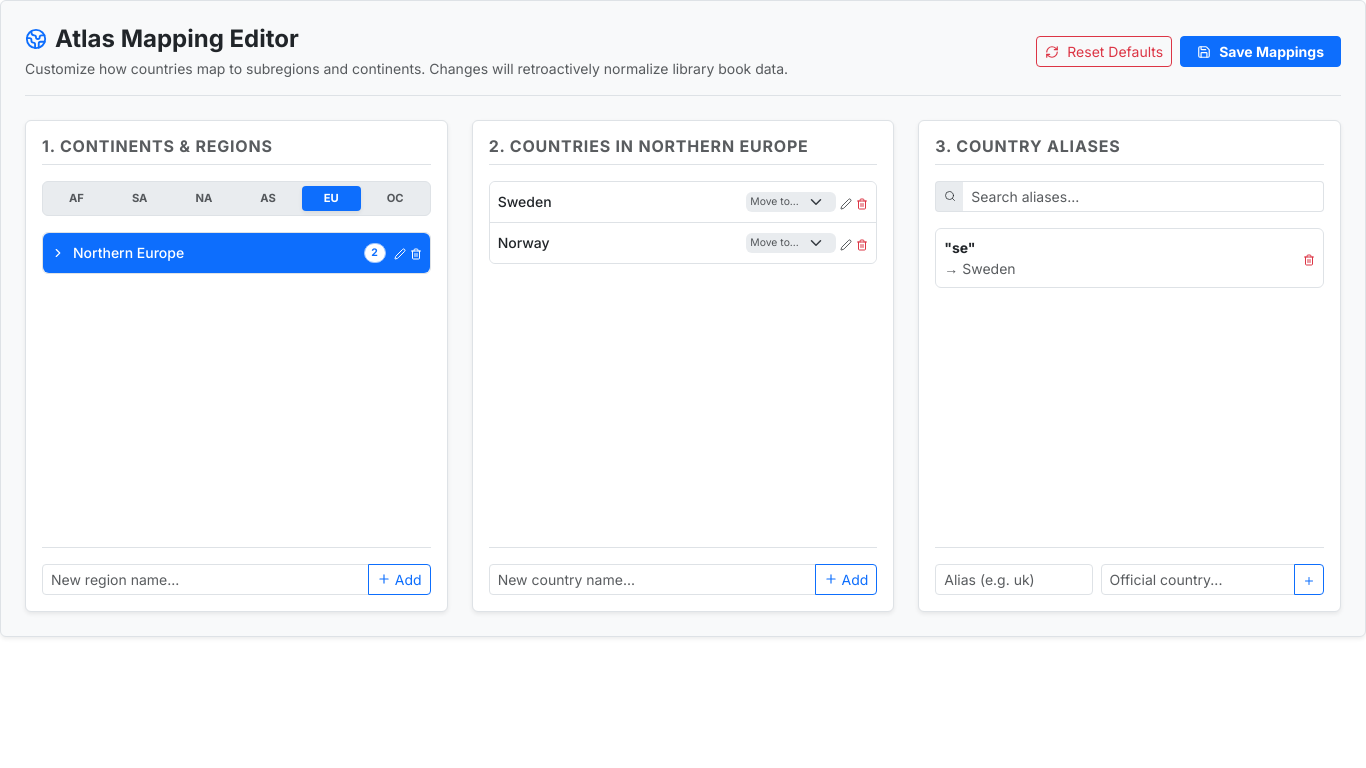
Test: MappingsEditor Component › allows renaming and deleting a country
Edit country 'Sweden'
Click the button with test id "edit-country-Sweden" at (846, 202), box top-left (840, 190), bottom-right (852, 214)
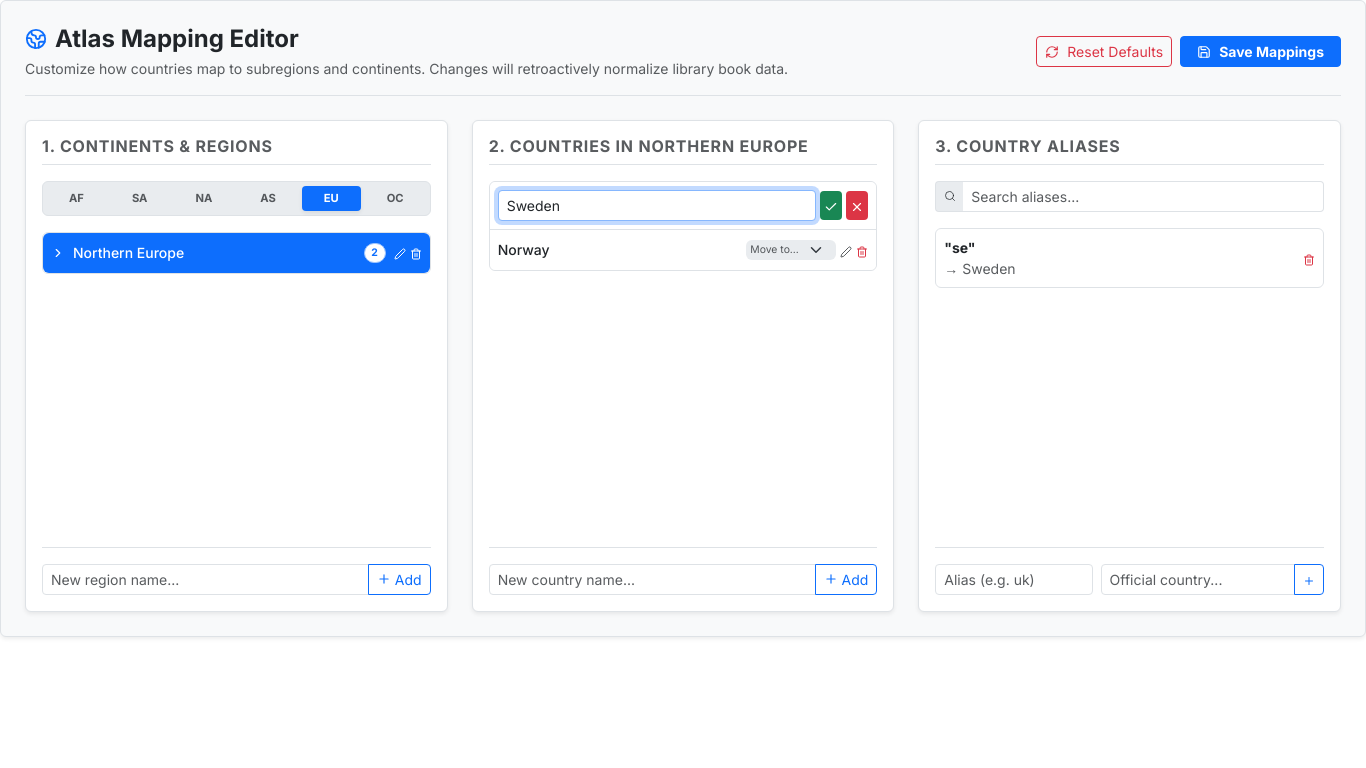
Test cancel edit
Click the button with test id "cancel-edit-country" at (857, 206), box top-left (846, 191), bottom-right (868, 220)
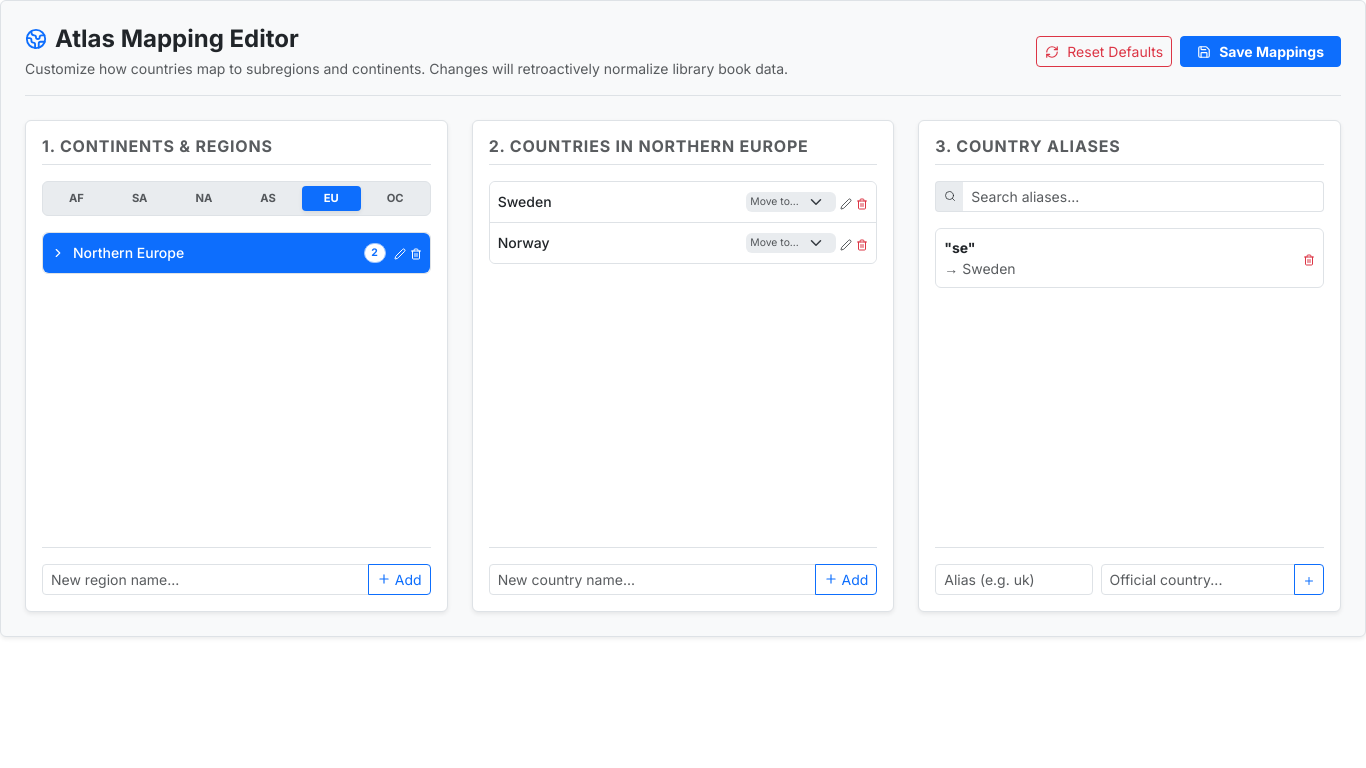
Now the text "Sweden" is shown, box top-left (498, 192), bottom-right (552, 212)
Edit again and confirm
Click the button with test id "edit-country-Sweden" at (846, 202), box top-left (840, 190), bottom-right (852, 214)
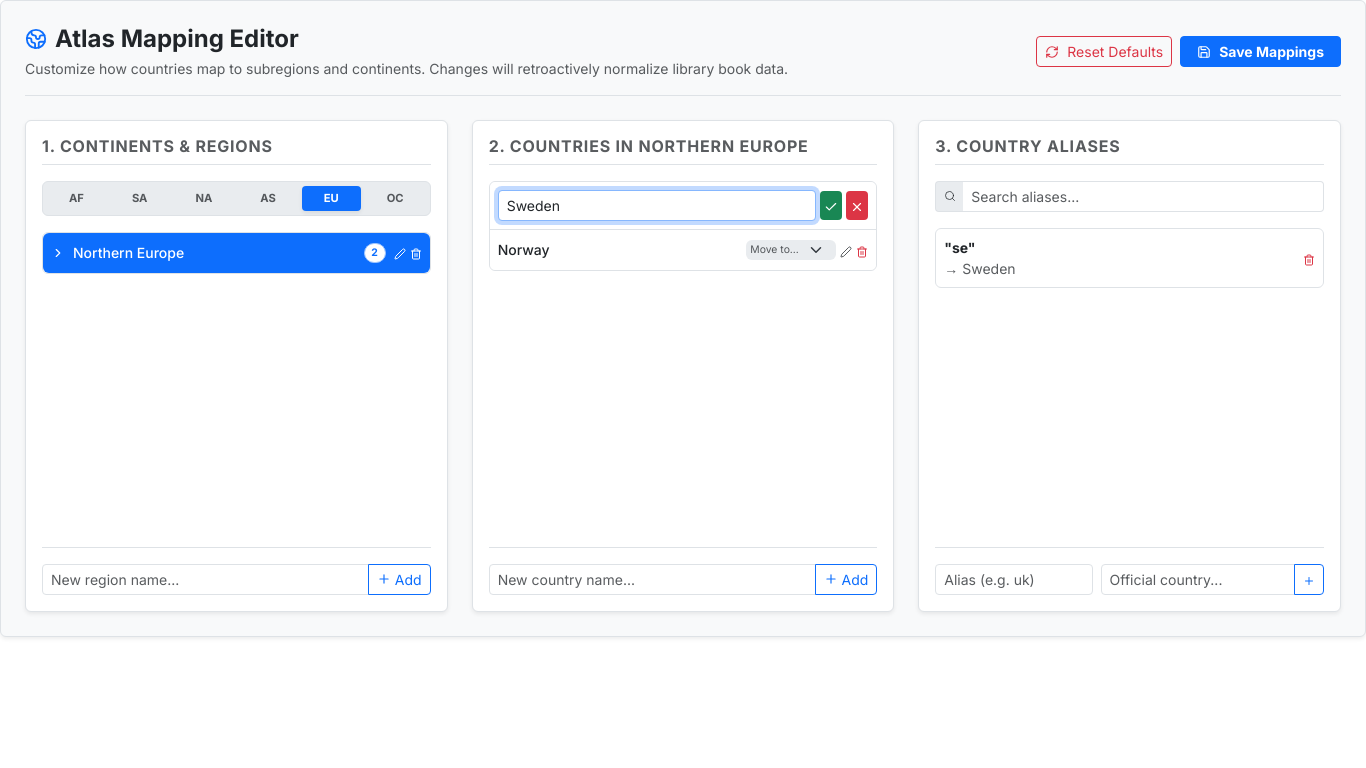
Replace the text in the field showing "Sweden" with "Sverige" at (657, 206), box top-left (498, 190), bottom-right (816, 221)
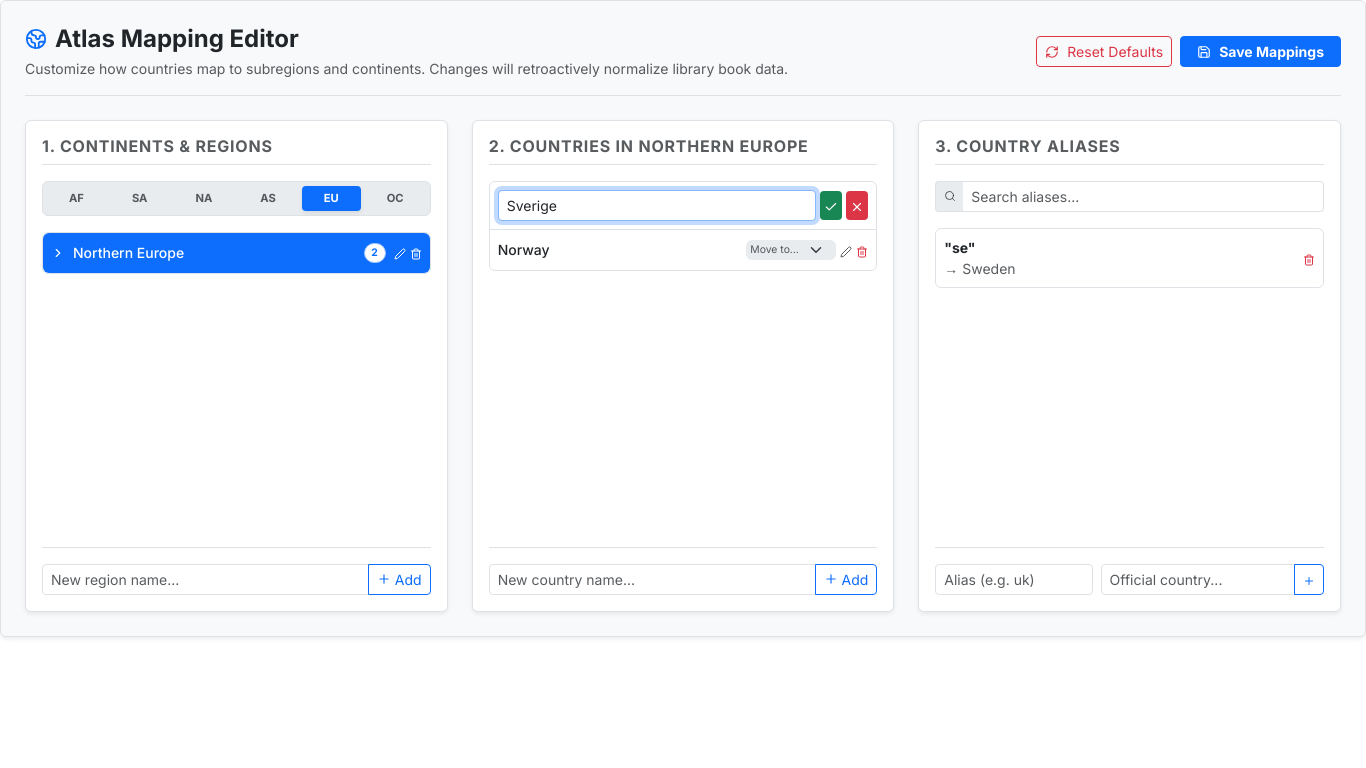
Click the button with test id "confirm-edit-country" at (831, 206), box top-left (820, 191), bottom-right (842, 220)
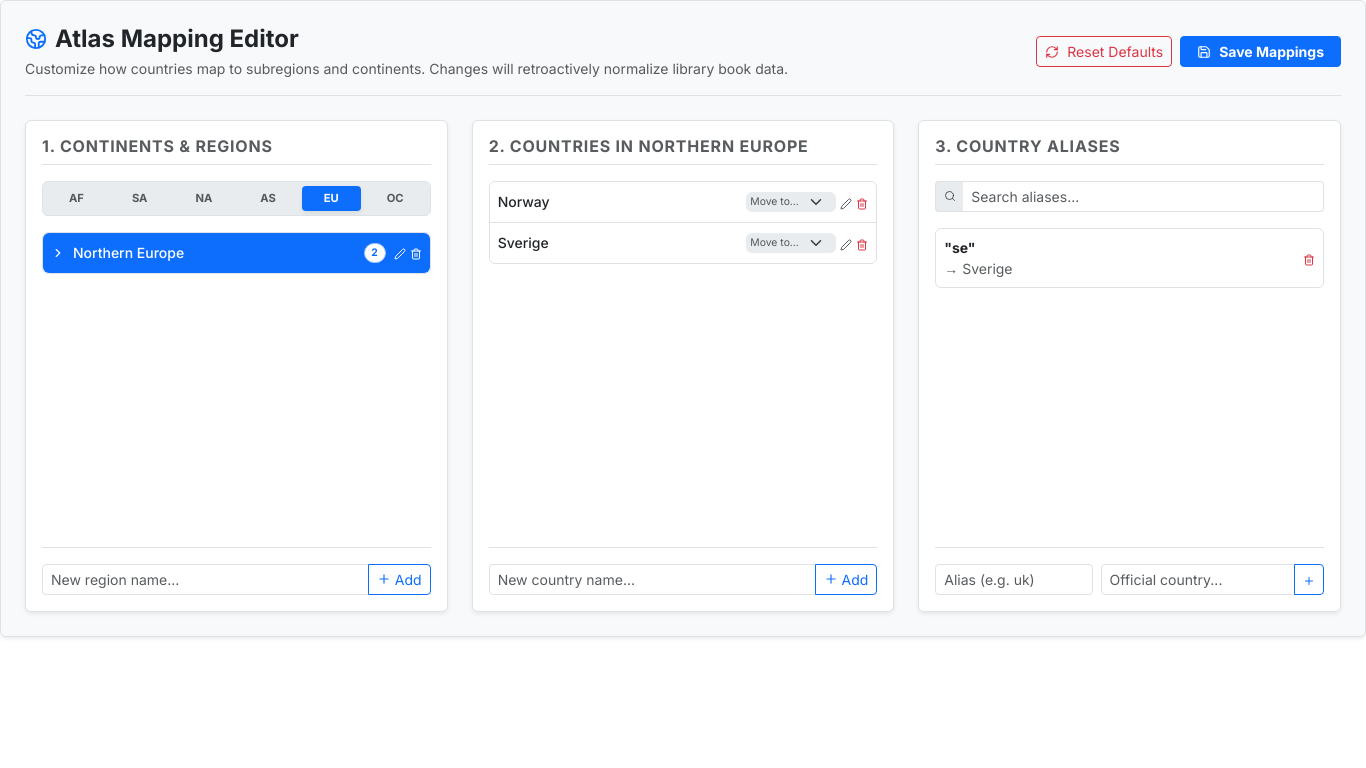
Now the text "Sverige" is shown, box top-left (498, 232), bottom-right (549, 254)
Delete 'Norway'
Click the button with test id "delete-country-Norway" at (862, 202), box top-left (856, 190), bottom-right (868, 214)
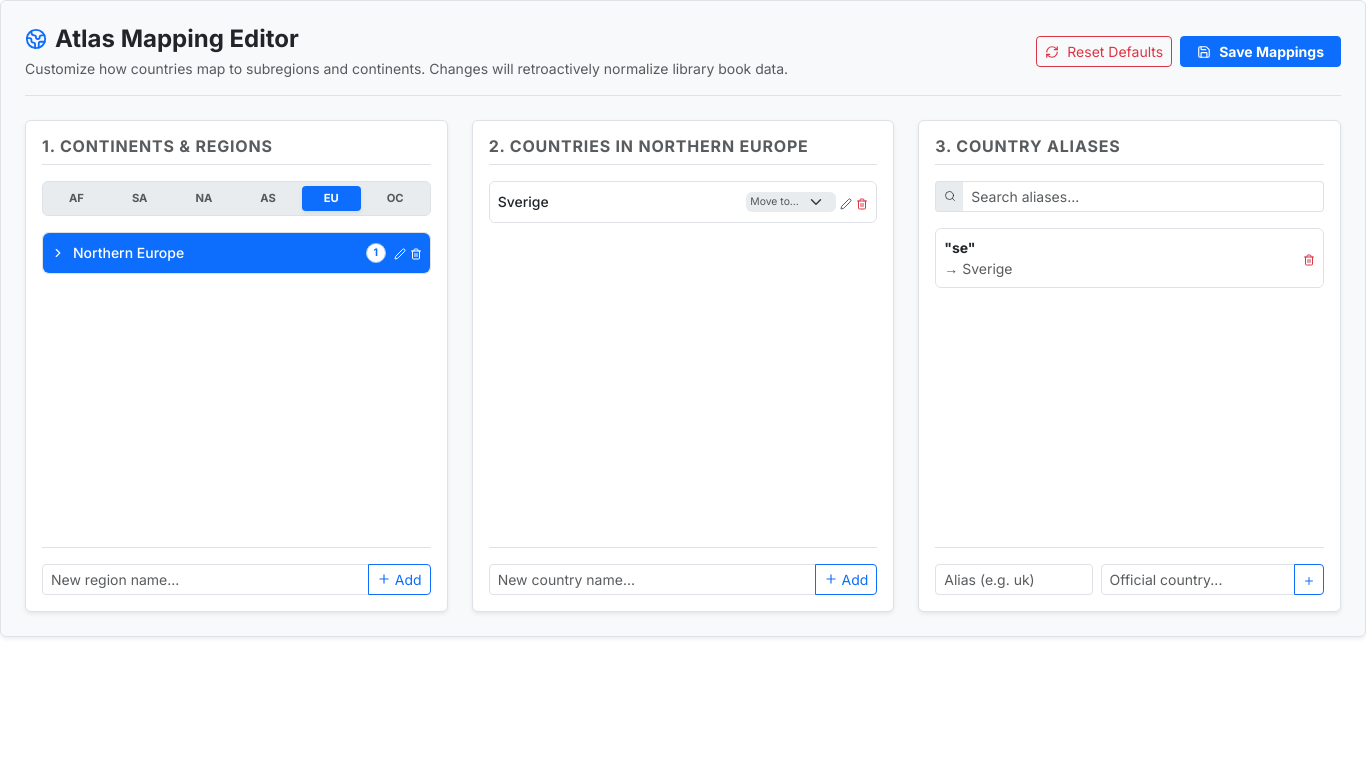
Now the text "Norway" is gone
